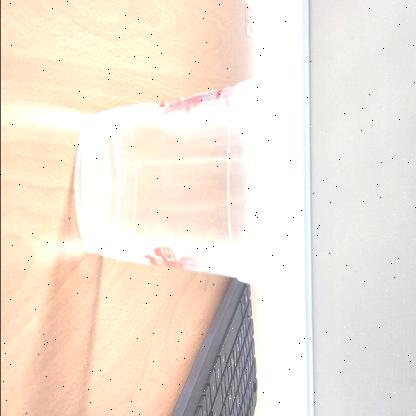Others: (72, 61, 286, 308)
